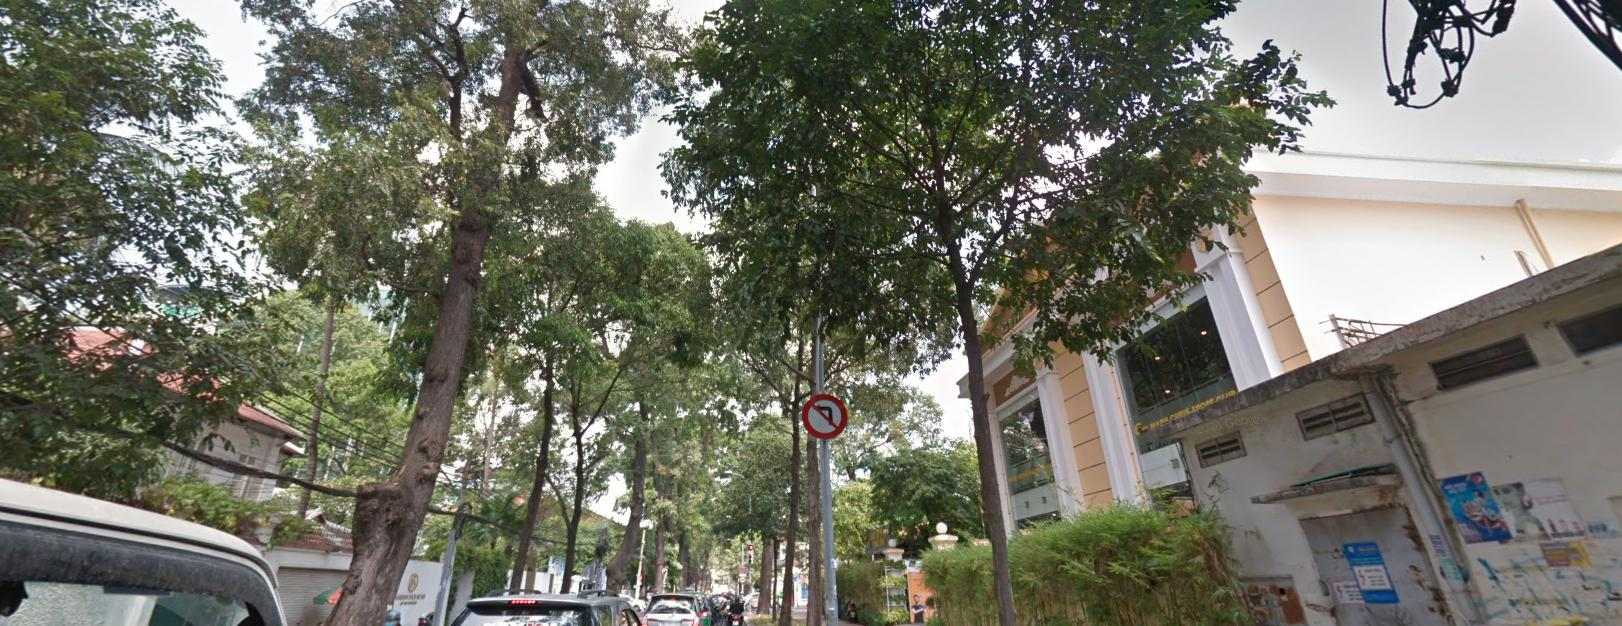Cam con lai: (739, 576, 745, 581)
Cam dung va do: (739, 566, 745, 572)
Cam re: (802, 393, 847, 437)
